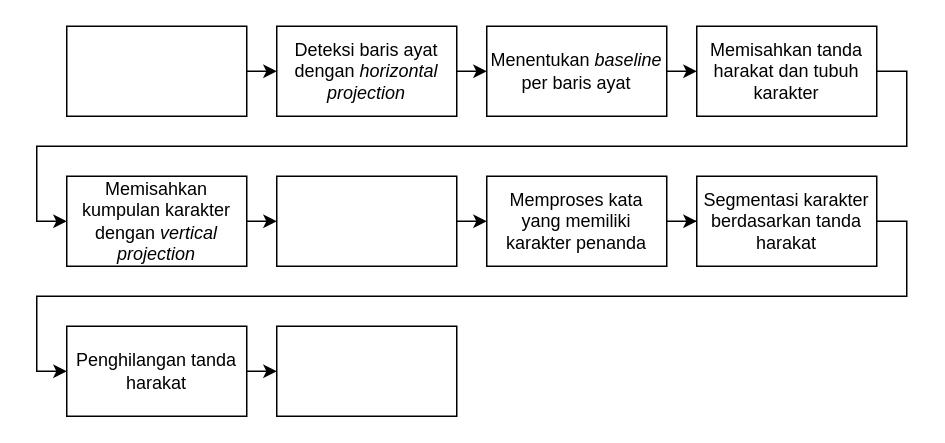
Some shapes in this 945 by 443 pixel diagram are drawn without their labels. The box of each missing label's shape, as (x1, y1, x2, y2) in pixels:
Input Citra: (65, 25, 247, 116)
Karakter tersegmentasi: (275, 325, 457, 416)
Mengelompokan tanda harakat dan kumpulan karakter menjadi kata: (275, 175, 457, 266)
